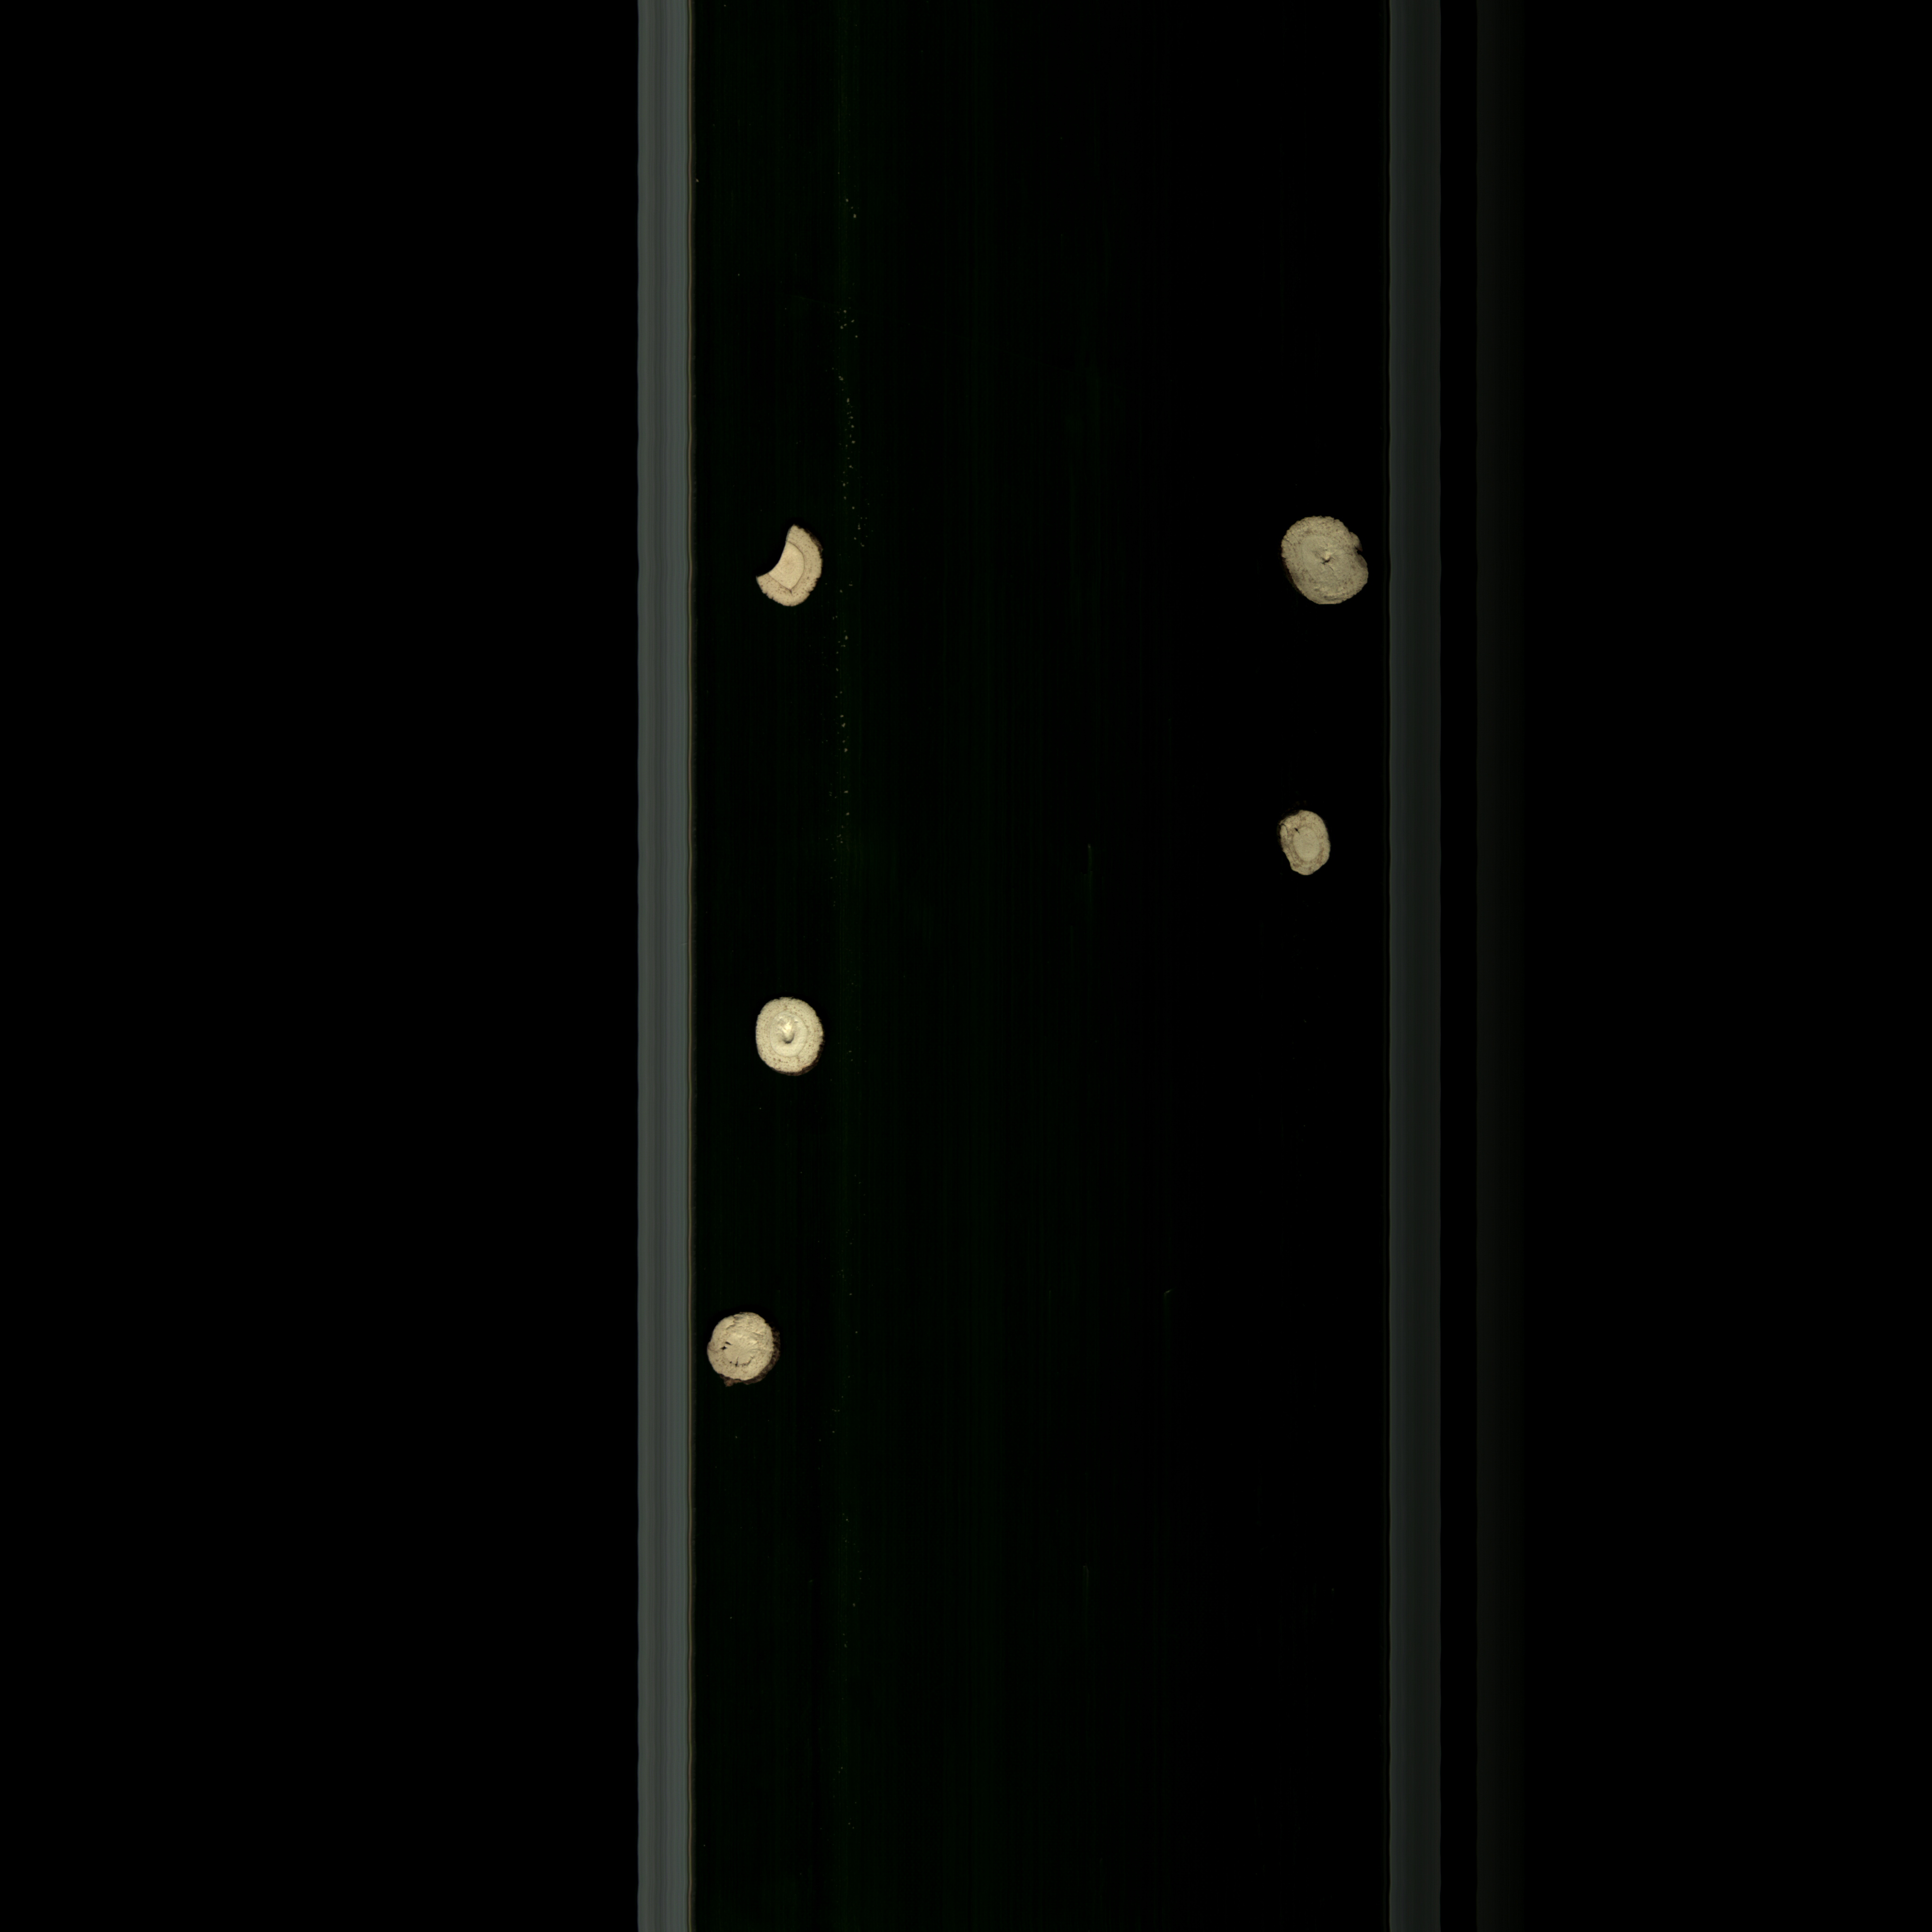debris: (736, 518, 837, 614)
hole: (1269, 513, 1378, 621), (745, 991, 837, 1088), (704, 1304, 793, 1394), (1263, 805, 1341, 885)
